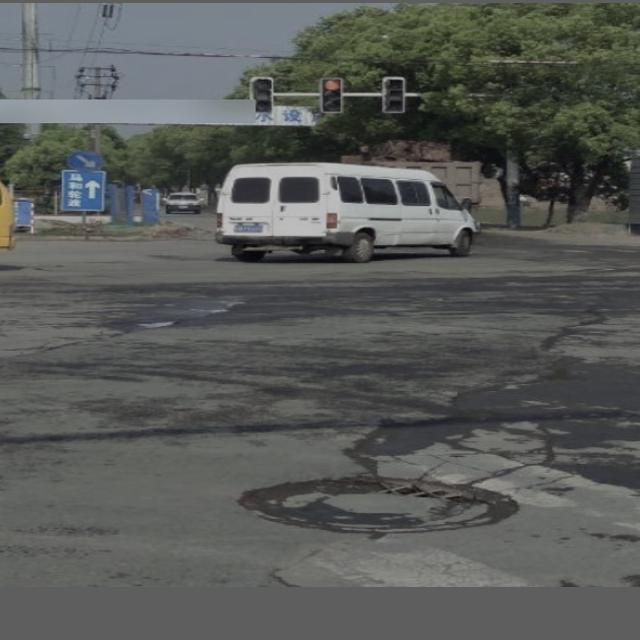broke: (238, 473, 519, 534)
